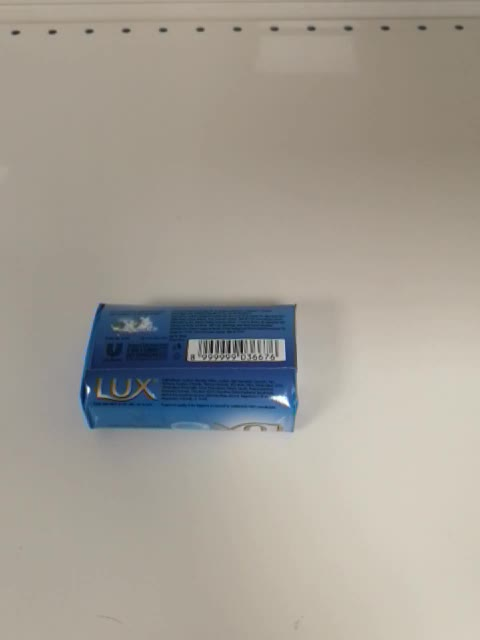soap: (75, 300, 301, 433)
